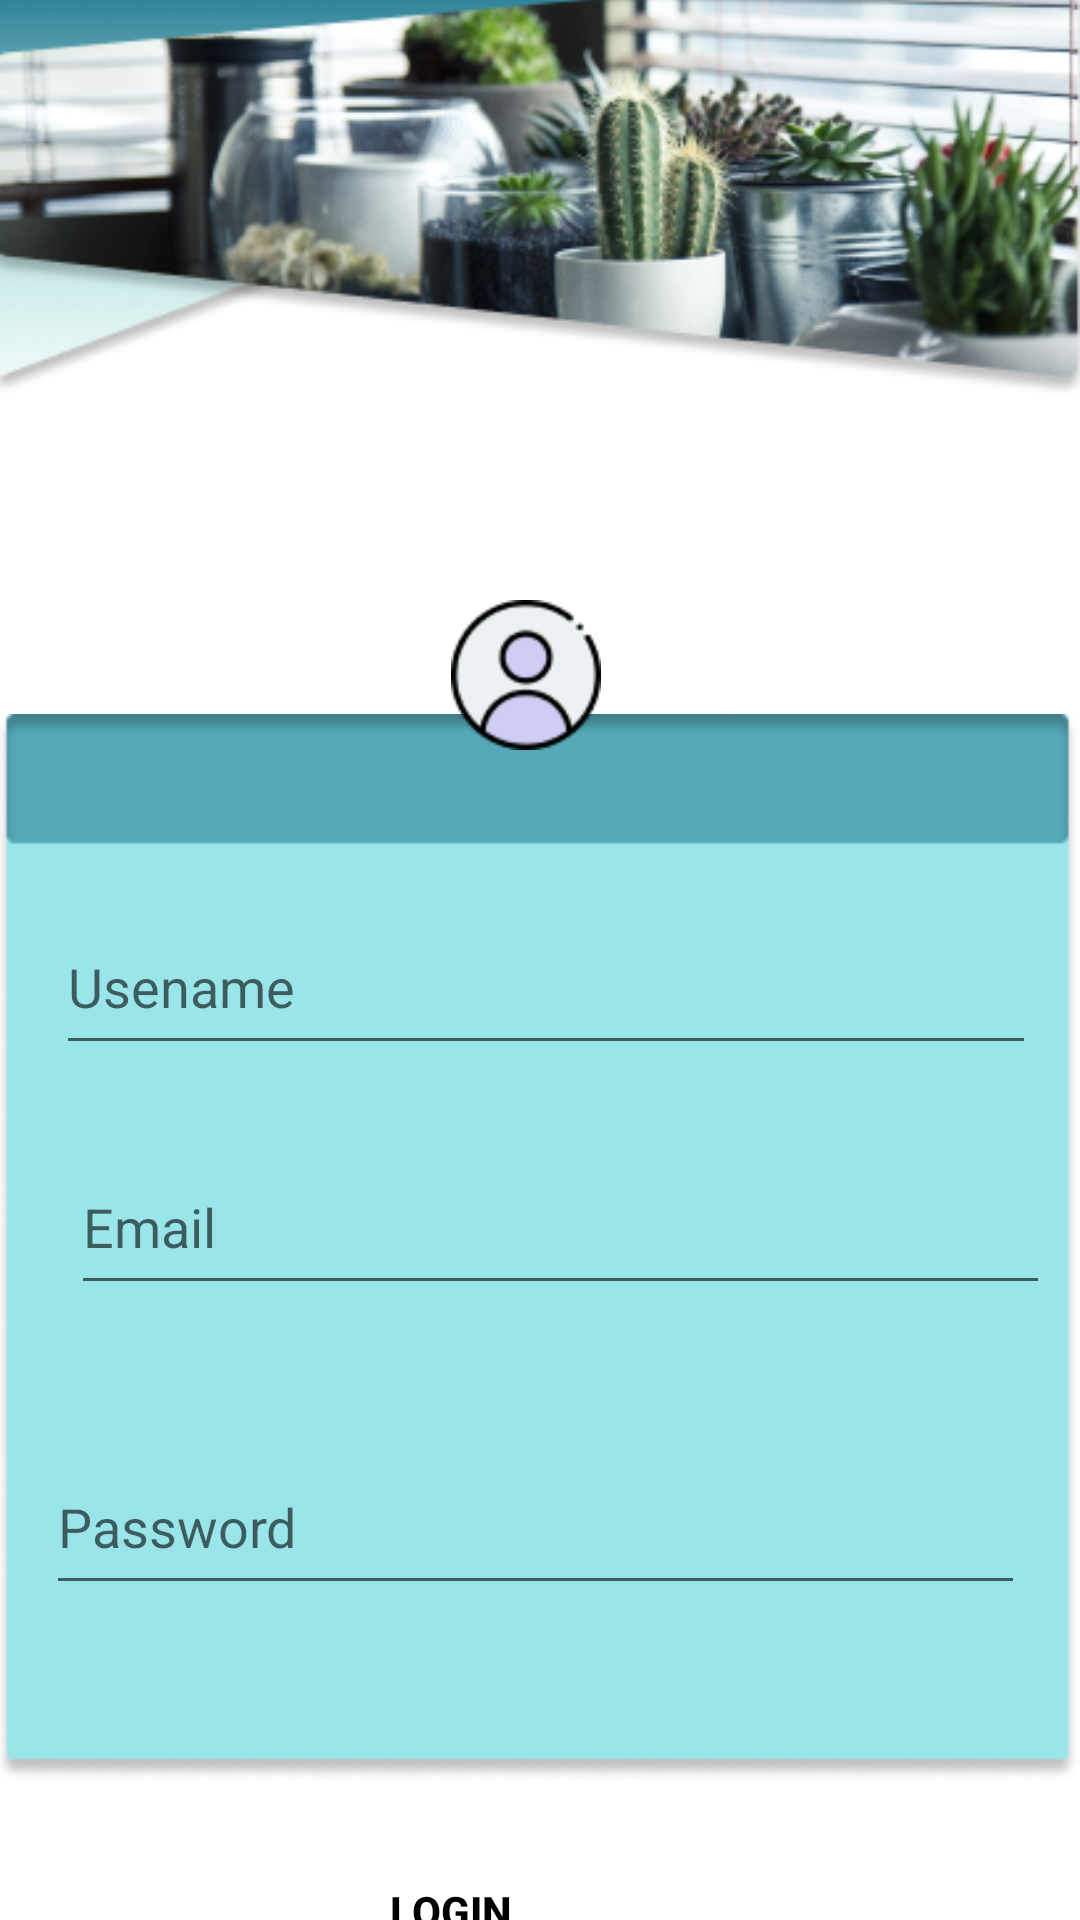

Icons on this 1080×1920 Android screen, each with the point to tap as (x=x, y=y):
user: (x=526, y=675)
